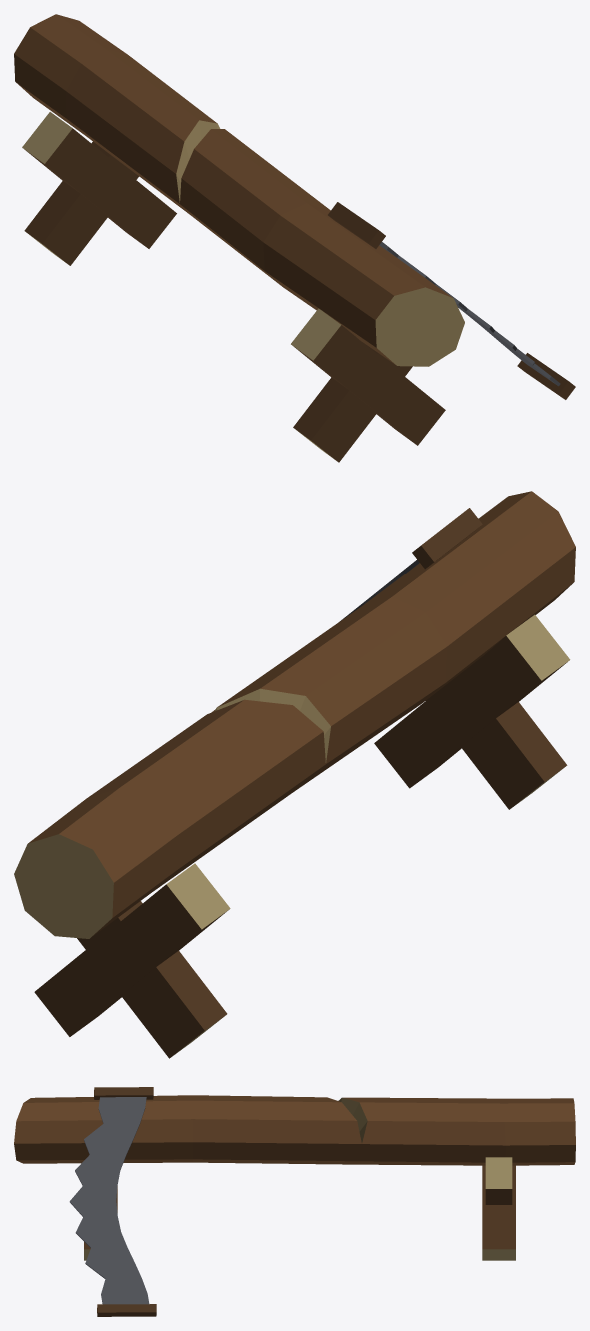
The model's file is Sawmill_saw.gltf.
3 views of the same model, one above another, from view 1: azimuth 30°, elevation 25°; view 2: azimuth 150°, elevation 25°; view 3: azimuth 270°, elevation 25° (orthographic). The views are drawn at different scales.
Visible parts, largest first — view 1: Sawmill_saw; view 2: Sawmill_saw; view 3: Sawmill_saw.
Boxes of the visible parts, bbox=[...] form: Sawmill_saw: bbox=[14, 14, 575, 462]; Sawmill_saw: bbox=[14, 491, 575, 1058]; Sawmill_saw: bbox=[14, 1087, 575, 1316].
Size of the model in its own units: 0.7053 by 0.5415 by 1.7.
